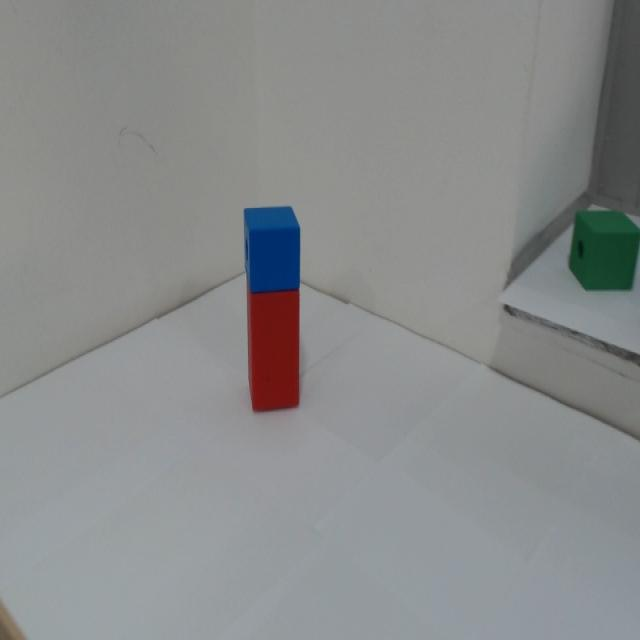cube: (226, 187, 307, 291)
